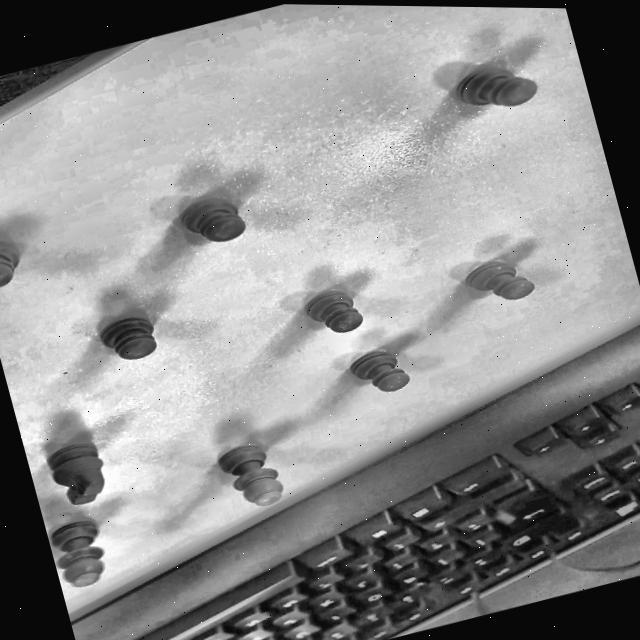white-bishop: (41, 499, 129, 597), (211, 422, 291, 518)
white-knight: (32, 414, 128, 511)
white-pawn: (432, 25, 555, 143), (163, 172, 261, 259), (290, 263, 376, 348), (90, 296, 172, 374), (463, 236, 540, 317), (335, 330, 419, 404), (0, 215, 42, 301)
